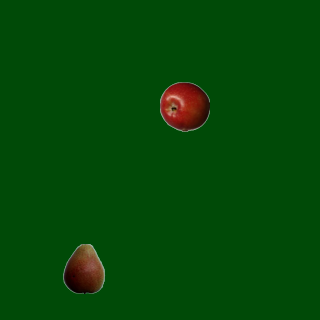Apple Braeburn: (159, 81, 209, 131)
Pear Forelle: (58, 243, 108, 293)
